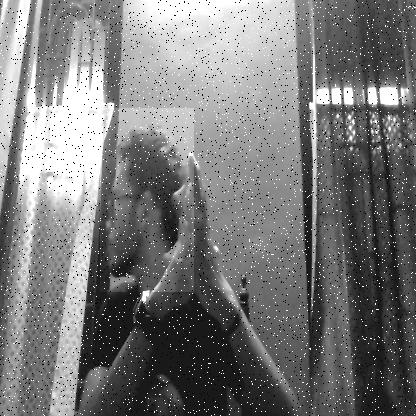Distracted: (100, 108, 194, 292)
